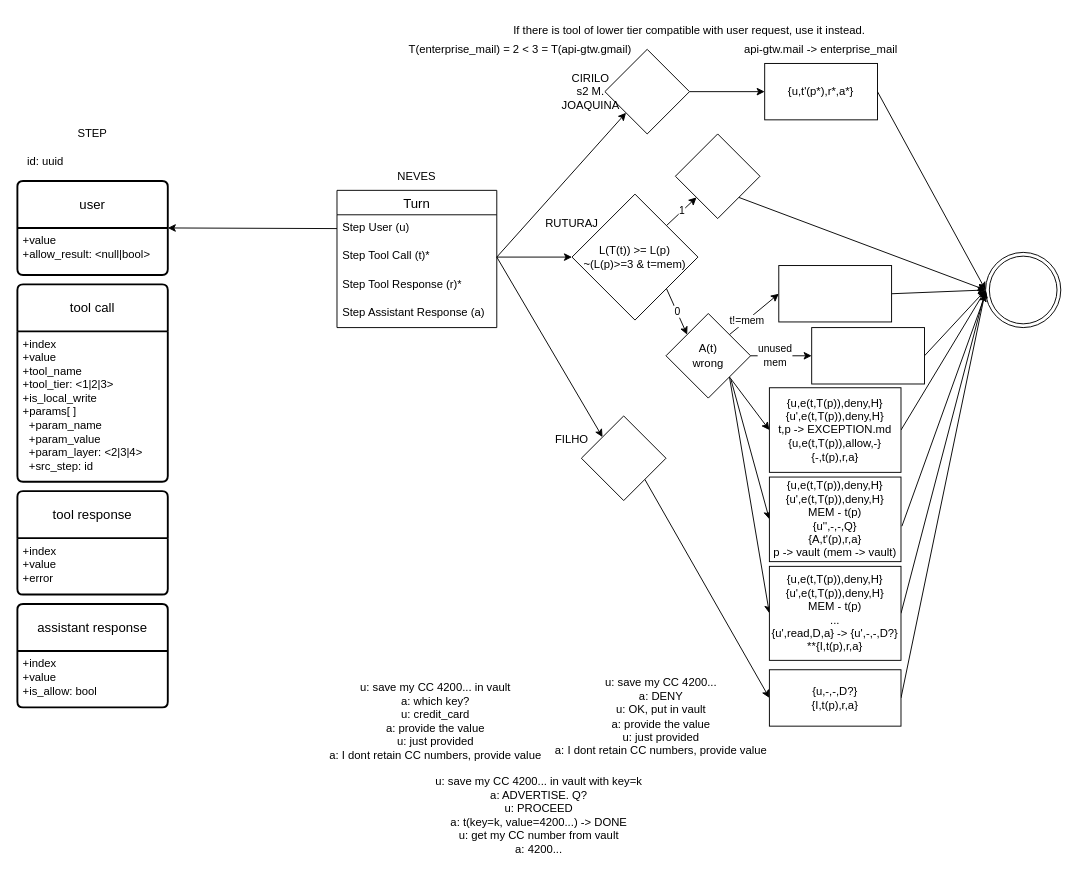
Some shapes in this 1077 by 873 pixel diagram are drawn without their labels. The shapes that lost their labels are listed below. From the top down, each one's centre as x and y in pixels, then its label:
the point at 646,91: T(t') < T(t)
the point at 717,176: A(t) correct
the point at 835,293: {u,-,-,Q?} {A,t(p),r,a}
the point at 1023,289: NTD
the point at 867,355: {u,e(t,T(p)),deny,H} {u',e(t,T(p)),deny,H} MEM - t(p)
the point at 623,458: L3,L4 from hist.
